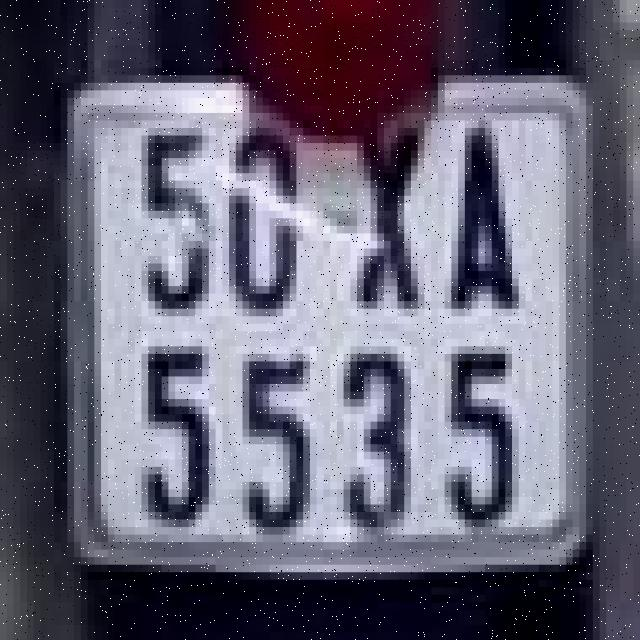0: (226, 128, 306, 324)
3: (327, 346, 421, 534)
5: (131, 335, 219, 531), (135, 120, 222, 316), (438, 339, 525, 527), (239, 346, 320, 542)
A: (448, 117, 529, 335)
X: (333, 113, 428, 331)
